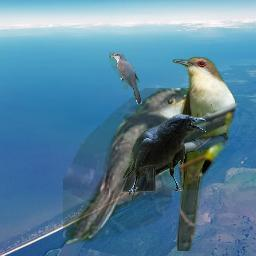Crow: (120, 114, 206, 200)
Cuckoo: (63, 88, 199, 247), (172, 56, 238, 251), (109, 52, 143, 105)
